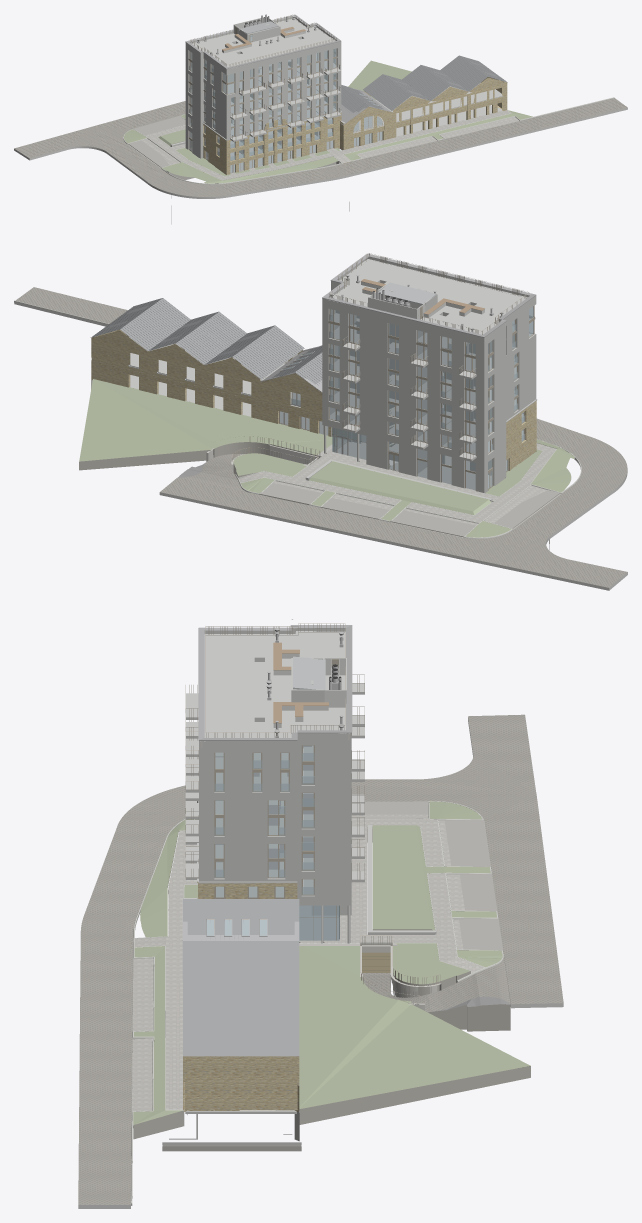
Rendered from exterior.glb.
3 renders of one model, top to bottom at view 1: azimuth 30°, elevation 25°; view 2: azimuth 150°, elevation 25°; view 3: azimuth 270°, elevation 25°, orthographic. The views are drawn at different scales.
Visible parts, largest first — view 1: LM_building, LM_site; view 2: LM_building, LM_site; view 3: LM_site, LM_building.
Part boxes in pixels (x1=…): LM_building: x1=128, y1=14, x2=507, y2=224; LM_site: x1=14, y1=21, x2=627, y2=198; LM_building: x1=90, y1=253, x2=560, y2=549; LM_site: x1=14, y1=282, x2=627, y2=590; LM_site: x1=78, y1=656, x2=563, y2=1208; LM_building: x1=131, y1=619, x2=503, y2=1151.
Size of what is drawn, in the model's own units: 132 by 43.74 by 55.12.
32 materials, 3 textured.
